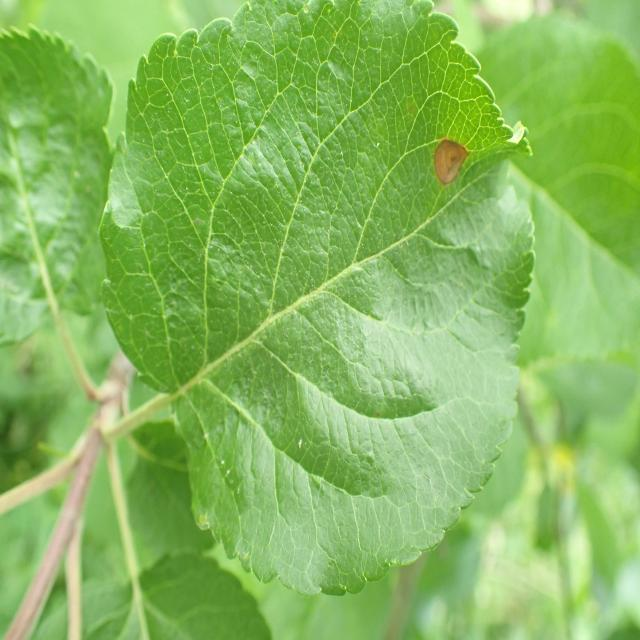Black Rot: (407, 124, 474, 204)
